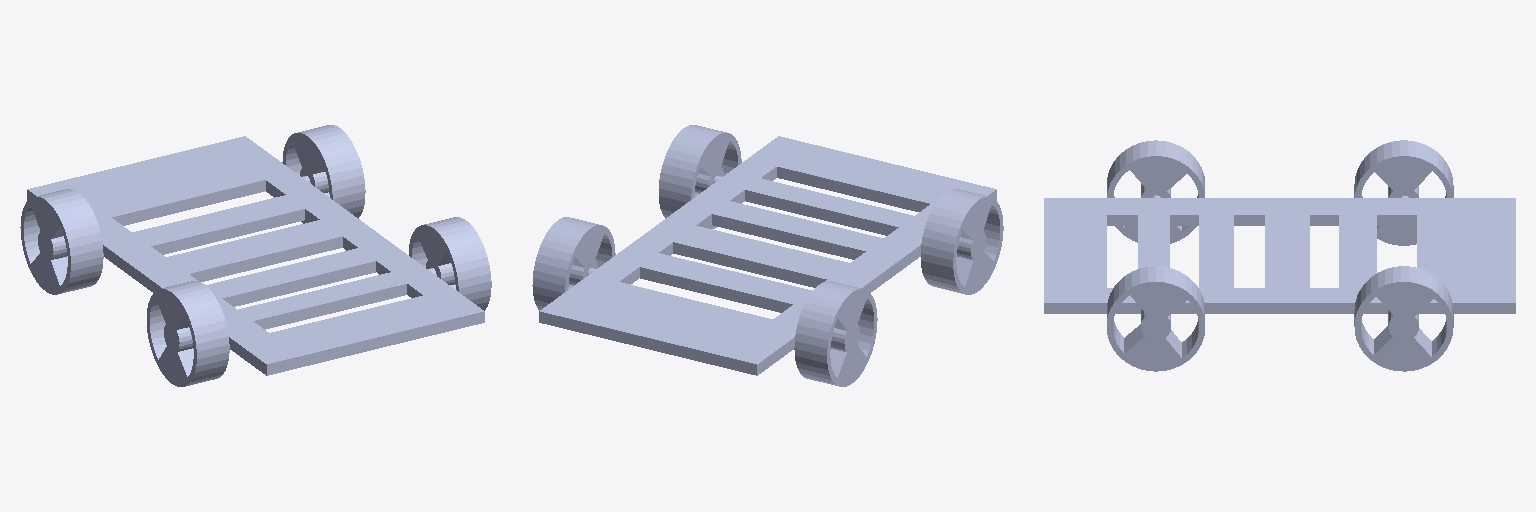
The robot description file, URDF, robot "Assem":
<?xml version="1.0" ?>
<!-- =================================================================================== -->
<!-- |    This document was autogenerated by xacro from Robot.xacro                    | -->
<!-- |    EDITING THIS FILE BY HAND IS NOT RECOMMENDED                                 | -->
<!-- =================================================================================== -->
<!-- Name your robot here -->
<robot name="Assem" xmlns:xacro="http://wiki.ros.org/xacro">
  <link name="dummy_link">
  </link>
  <joint name="dummy_link" type="fixed">
    <parent link="dummy_link"/>
    <child link="base_link"/>
  </joint>
  <gazebo>
    <plugin filename="libgazebo_ros_diff_drive.so" name="differential_drive_controller">
      <legacyMode>false</legacyMode>
      <alwaysOn>true</alwaysOn>
      <updateRate>20</updateRate>
      <leftJoint>left_f</leftJoint>
      <rightJoint>right_f</rightJoint>
      <wheelSeparation>0.5334</wheelSeparation>
      <wheelDiameter>0.1032</wheelDiameter>
      <torque>5.0</torque>
      <commandTopic>cmd_vel</commandTopic>
      <odometryTopic>odom</odometryTopic>
      <odometryFrame>odom</odometryFrame>
      <robotBaseFrame>base_link</robotBaseFrame>
    </plugin>
  </gazebo>
  <link name="base_link">
    <inertial>
      <origin rpy="0 0 0" xyz="-0.0016914 0.0127 -0.01121"/>
      <mass value="4"/>
      <inertia ixx="0.83564" ixy="2.6064E-18" ixz="0.0007444" iyy="1.0742" iyz="7.9758E-19" izz="0.23955"/>
    </inertial>
    <visual>
      <origin rpy="0 0 0" xyz="0 0 0"/>
      <geometry>
        <mesh filename="package://project1/meshes/base_link.STL"/>
      </geometry>
      <material name="">
        <color rgba="0.79216 0.81961 0.93333 1"/>
      </material>
    </visual>
    <collision>
      <origin rpy="0 0 0" xyz="0 0 0"/>
      <geometry>
        <mesh filename="package://project1/meshes/base_link.STL"/>
      </geometry>
    </collision>
  </link>
  <link name="left_f_Link">
    <inertial>
      <origin rpy="0 0 0" xyz="0.0382293903121097 -1.73472347597681E-18 0"/>
      <mass value="1.57907589778326"/>
      <inertia ixx="0.00880766574640623" ixy="8.97187520246957E-20" ixz="-2.39573040315552E-20" iyy="0.00400202473857838" iyz="3.16915422768057E-05" izz="0.00632680350392821"/>
    </inertial>
    <visual>
      <origin rpy="0 0 0" xyz="0 0 0"/>
      <geometry>
        <mesh filename="package://project1/meshes/left_f_Link.STL"/>
      </geometry>
      <material name="">
        <color rgba="0.792156862745098 0.819607843137255 0.933333333333333 1"/>
      </material>
    </visual>
    <collision>
      <origin rpy="0 0 0" xyz="0 0 0"/>
      <geometry>
        <mesh filename="package://project1/meshes/left_f_Link.STL"/>
      </geometry>
    </collision>
  </link>
  <joint name="left_f" type="continuous">
    <origin rpy="1.4934 0 0" xyz="0.2667 -0.254 0.0127"/>
    <parent link="base_link"/>
    <child link="left_f_Link"/>
    <axis xyz="1 0 0"/>
  </joint>
  <link name="left_b_Link">
    <inertial>
      <origin rpy="0 0 0" xyz="0.0382293903121097 -3.46944695195361E-18 0"/>
      <mass value="1.57907589778326"/>
      <inertia ixx="0.00880766574640623" ixy="1.16769056939019E-19" ixz="-2.89368343198518E-19" iyy="0.00400202473857838" iyz="3.16915422768003E-05" izz="0.00632680350392821"/>
    </inertial>
    <visual>
      <origin rpy="0 0 0" xyz="0 0 0"/>
      <geometry>
        <mesh filename="package://project1/meshes/left_b_Link.STL"/>
      </geometry>
      <material name="">
        <color rgba="0.792156862745098 0.819607843137255 0.933333333333333 1"/>
      </material>
    </visual>
    <collision>
      <origin rpy="0 0 0" xyz="0 0 0"/>
      <geometry>
        <mesh filename="package://project1/meshes/left_b_Link.STL"/>
      </geometry>
    </collision>
  </link>
  <joint name="left_b" type="continuous">
    <origin rpy="1.5456 0 0" xyz="0.2667 0.254 0.0127"/>
    <parent link="base_link"/>
    <child link="left_b_Link"/>
    <axis xyz="1 0 0"/>
  </joint>
  <link name="right_f_Link">
    <inertial>
      <origin rpy="0 0 0" xyz="0.0382293903121098 1.73472347597681E-18 0"/>
      <mass value="1.57907589778326"/>
      <inertia ixx="0.00880766574640622" ixy="2.93945738314315E-21" ixz="2.09244409814948E-19" iyy="0.00400202473857838" iyz="3.16915422767972E-05" izz="0.00632680350392821"/>
    </inertial>
    <visual>
      <origin rpy="0 0 0" xyz="0 0 0"/>
      <geometry>
        <mesh filename="package://project1/meshes/right_f_Link.STL"/>
      </geometry>
      <material name="">
        <color rgba="0.792156862745098 0.819607843137255 0.933333333333333 1"/>
      </material>
    </visual>
    <collision>
      <origin rpy="0 0 0" xyz="0 0 0"/>
      <geometry>
        <mesh filename="package://project1/meshes/right_f_Link.STL"/>
      </geometry>
    </collision>
  </link>
  <joint name="right_f" type="continuous">
    <origin rpy="-1.48 0 -3.1416" xyz="-0.2667 -0.254 0.0127"/>
    <parent link="base_link"/>
    <child link="right_f_Link"/>
    <axis xyz="1 0 0"/>
  </joint>
  <link name="right_b_Link">
    <inertial>
      <origin rpy="0 0 0" xyz="0.0382293903121097 -5.20417042793042E-18 0"/>
      <mass value="1.57907589778326"/>
      <inertia ixx="0.00880766574640623" ixy="8.48274680339935E-20" ixz="-5.67037306013235E-20" iyy="0.00400202473857838" iyz="3.1691542276803E-05" izz="0.00632680350392821"/>
    </inertial>
    <visual>
      <origin rpy="0 0 0" xyz="0 0 0"/>
      <geometry>
        <mesh filename="package://project1/meshes/right_b_Link.STL"/>
      </geometry>
      <material name="">
        <color rgba="0.792156862745098 0.819607843137255 0.933333333333333 1"/>
      </material>
    </visual>
    <collision>
      <origin rpy="0 0 0" xyz="0 0 0"/>
      <geometry>
        <mesh filename="package://project1/meshes/right_b_Link.STL"/>
      </geometry>
    </collision>
  </link>
  <joint name="right_b" type="continuous">
    <origin rpy="-1.5708 0 3.1416" xyz="-0.2667 0.254 0.0127"/>
    <parent link="base_link"/>
    <child link="right_b_Link"/>
    <axis xyz="1 0 0"/>
  </joint>
  <link name="base_laser">
    <inertial>
      <origin rpy="0 0 0" xyz="-0.00029774 0.0066667 0.00013047"/>
      <mass value="0.15717"/>
      <inertia ixx="6.7885E-05" ixy="-1.3987E-07" ixz="-8.1554E-07" iyy="0.00013173" iyz="-9.0932E-08" izz="7.1972E-05"/>
    </inertial>
    <visual>
      <origin rpy="0 0 0" xyz="0 0 0"/>
      <geometry>
        <mesh filename="package://project1/meshes/ydlidar.dae"/>
      </geometry>
      <material name="">
        <color rgba="0.64706 0.61961 0.58824 1"/>
      </material>
    </visual>
    <collision>
      <origin rpy="0 0 0" xyz="0 0 0"/>
      <geometry>
        <mesh filename="package://project1/meshes/ydlidar.dae"/>
      </geometry>
    </collision>
  </link>
  <link name="laser_frame">
    <inertial>
      <origin rpy="0 0 0" xyz="-0.00036659 0.00064155 -0.00027052"/>
      <mass value="0.25482"/>
      <inertia ixx="8.9194E-05" ixy="1.8116E-07" ixz="3.6435E-08" iyy="0.00018279" iyz="2.423E-07" izz="0.00011103"/>
    </inertial>
    <!--visual>
      <origin
        xyz="0 0 0"
        rpy="0 0 0" />
      <geometry>
        <mesh
          filename="package://ydlidar_ros/meshes/ydlidar.dae" />
      </geometry>
      <material
        name="">
        <color
          rgba="0.64706 0.61961 0.58824 1" />
      </material>
    </visual-->
    <!--collision>
      <origin
        xyz="0 0 0"
        rpy="0 0 0" />
      <geometry>
        <mesh
          filename="package://ydlidar_ros/meshes/ydlidar.dae" />
      </geometry>
    </collision-->
  </link>
  <joint name="laser_joint" type="fixed">
    <origin rpy="0 0 0" xyz="0 0 0.03172"/>
    <parent link="base_laser"/>
    <child link="laser_frame"/>
    <axis xyz="0 0 0"/>
  </joint>
  <!-- Add your gazebo sensors here -->
  <gazebo reference="base_laser">
    <!-- <gravity>true</gravity> -->
    <!-- Gazebo has fixed set of Sensors types. Check them out here <> -->
    <sensor name="laser" type="ray">
      <!-- Add in your sensor characteristics -->
      <pose> 0 0 0 0 0 0 </pose>
      <visualise>true</visualise>
      <update_rate>40</update_rate>
      <!-- <always_on>true</always_on> -->
      <ray>
        <scan>
          <horizontal>
            <samples>720</samples>
            <resolution>1</resolution>
            <min_angle>-1.570796</min_angle>
            <max_angle>1.570796</max_angle>
          </horizontal>
        </scan>
        <range>
          <min>0.10</min>
          <max>30.0</max>
          <resolution>0.01</resolution>
        </range>
        <noise>
          <type>gaussian</type>
          <mean>0.0</mean>
          <stddev>0.01</stddev>
        </noise>
      </ray>
      <plugin filename="libgazebo_ros_laser.so" name="gazebo_ros_head_hokuyo_controller">
        <!-- Use topic name as /my_robot/scan -->
        <topicName>project1/scan</topicName>
        <frameName>laser_frame</frameName>
      </plugin>
    </sensor>
  </gazebo>
  <!-- Create a joint between your robot and sensor -->
  <joint name="joint_sensor_laser" type="fixed">
    <origin rpy="0 0 1.57" xyz="0.15 0.42 0.028"/>
    <parent link="base_link"/>
    <child link="base_laser"/>
  </joint>
</robot>

--- What the picture shows (computed from the rendered views, not written in the file) ---
The picture shows the robot from 3 angles, left to right: view 1: azimuth 30°, elevation 25°; view 2: azimuth 150°, elevation 25°; view 3: azimuth 270°, elevation 25°; orthographic projection.
Robot: Assem — 8 links, 7 joints (4 continuous, 3 fixed); root link dummy_link; default pose: every joint at zero.
Visible links, largest first — view 1: base_link, right_f_Link, right_b_Link, left_b_Link, left_f_Link; view 2: base_link, right_f_Link, right_b_Link, left_f_Link, left_b_Link; view 3: base_link, left_b_Link, left_f_Link, right_b_Link, right_f_Link.
Link boxes in pixels (x1,y1,x2,y2): base_link: (27, 136, 484, 375); right_f_Link: (147, 281, 229, 386); right_b_Link: (20, 189, 103, 294); left_b_Link: (282, 125, 365, 223); left_f_Link: (409, 217, 491, 310); base_link: (539, 136, 996, 375); right_f_Link: (921, 189, 1003, 294); right_b_Link: (794, 281, 877, 386); left_f_Link: (659, 125, 741, 228); left_b_Link: (532, 217, 615, 310); base_link: (1044, 195, 1515, 313); left_b_Link: (1354, 266, 1453, 371); left_f_Link: (1107, 266, 1204, 371); right_b_Link: (1354, 140, 1453, 245); right_f_Link: (1107, 140, 1204, 243).
Bounding box of the posed robot: 0.6858 × 0.9652 × 0.2032 m (x, y, z).
Meshes: 6 distinct files referenced, 5 mesh visuals loaded (5 binary STL); not drawn: 1 (reference not matched to a file when rendering).
